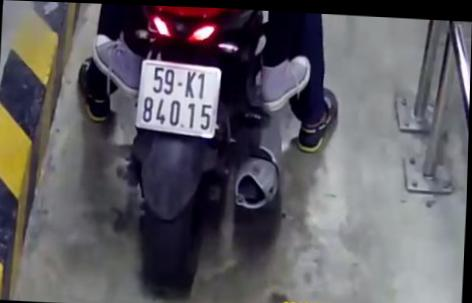LP: (134, 56, 223, 139)
